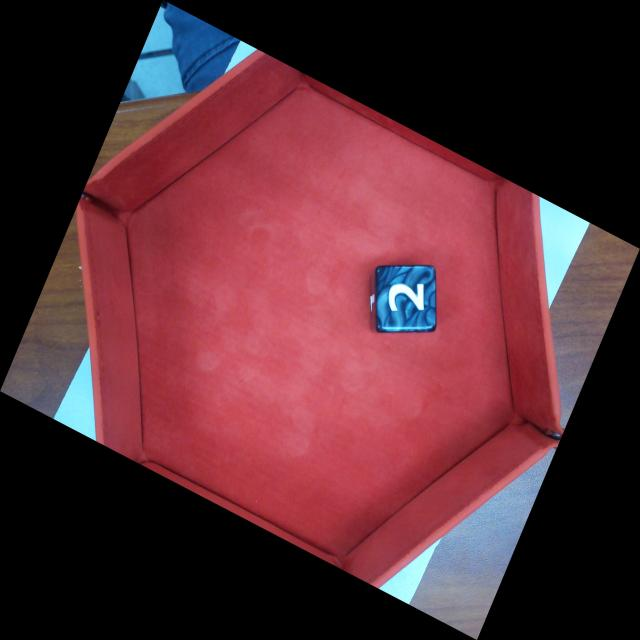dice: (374, 264, 437, 334)
